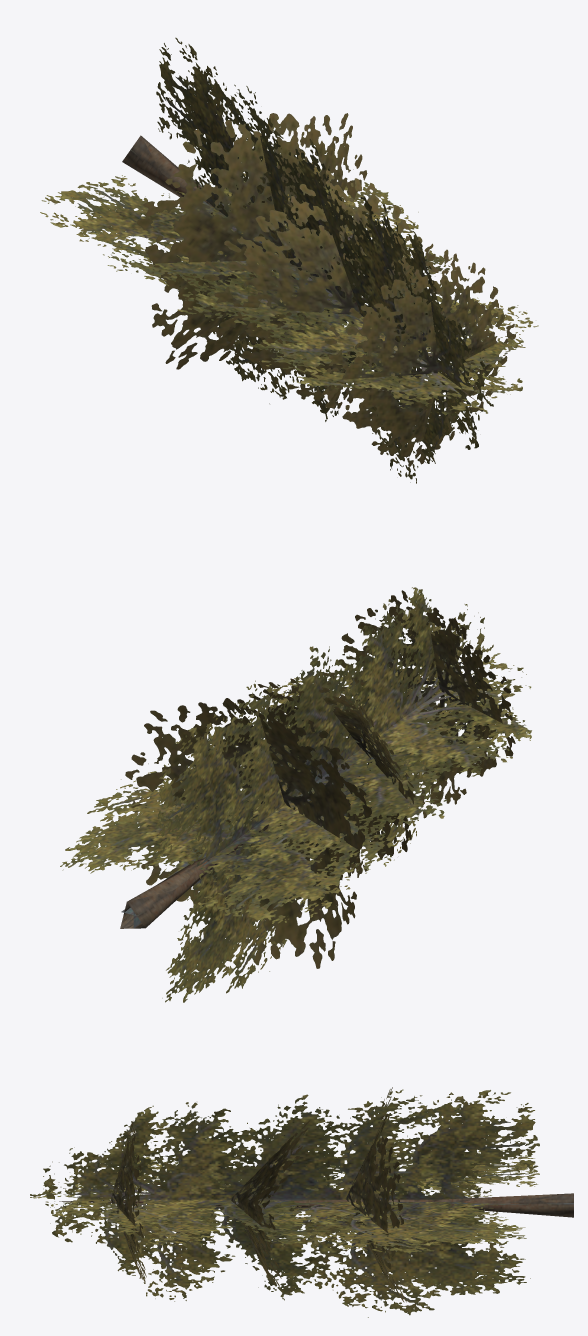
File: tree_background_07.obj
The picture shows the model from 3 angles, top to bottom: view 1: azimuth 30°, elevation 25°; view 2: azimuth 150°, elevation 25°; view 3: azimuth 270°, elevation 25°; orthographic projection. The views are drawn at different scales.
Visible parts, largest first — view 1: tree_background_07; view 2: tree_background_07; view 3: tree_background_07.
Boxes of the visible parts, x1=… form: tree_background_07: x1=40, y1=37, x2=538, y2=483; tree_background_07: x1=60, y1=587, x2=531, y2=1002; tree_background_07: x1=30, y1=1087, x2=573, y2=1317.
Bounding box in the file's own units: 11.4 × 11.4 × 24.54.
1 material, 1 textured.
